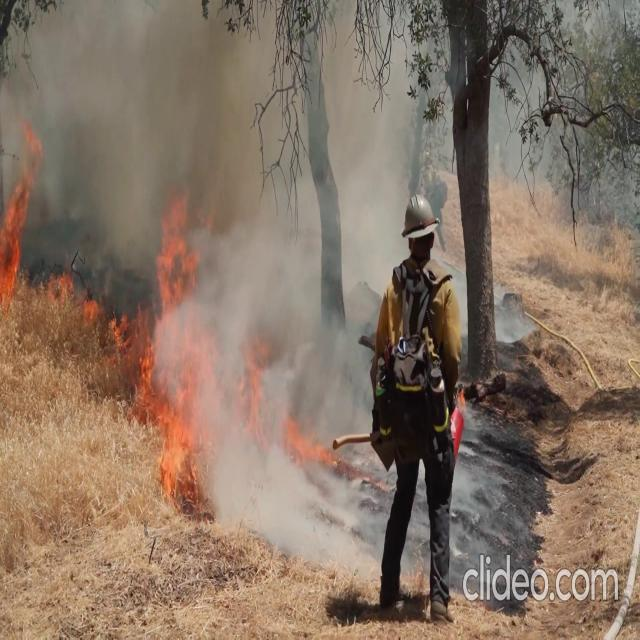Fire: (134, 185, 210, 507), (0, 123, 76, 321), (0, 128, 43, 309)
Smoke: (31, 6, 377, 531)
